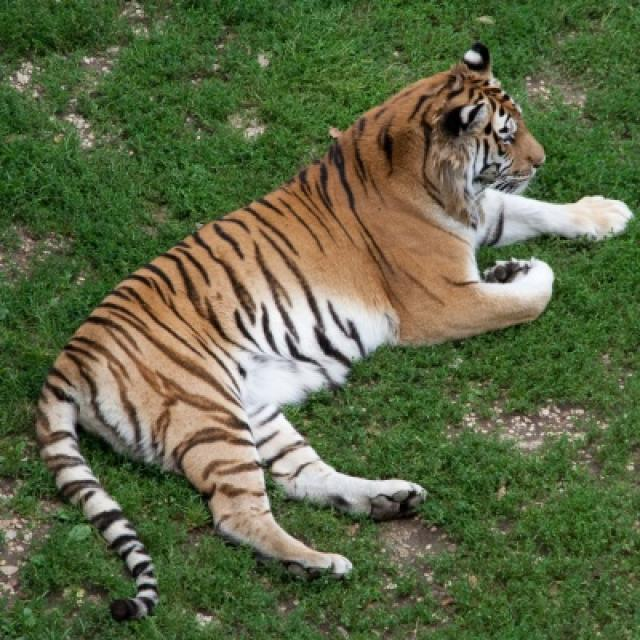Tiger: (33, 39, 628, 607)
